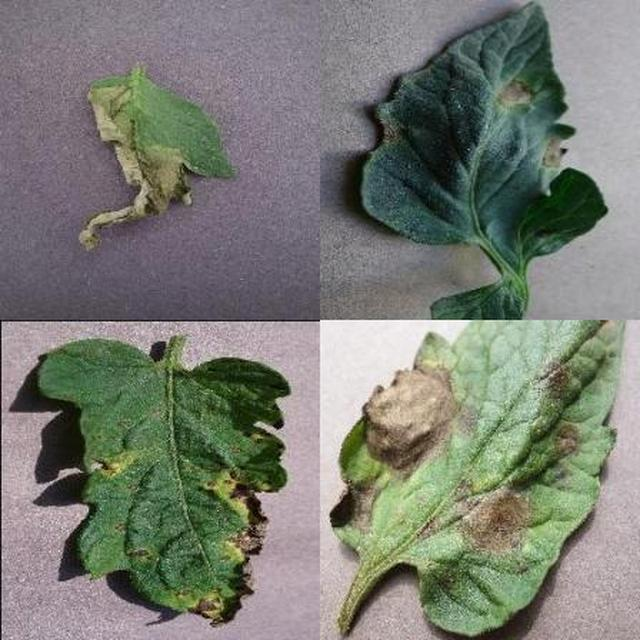Late Blight Leaf: (224, 188, 640, 640)
